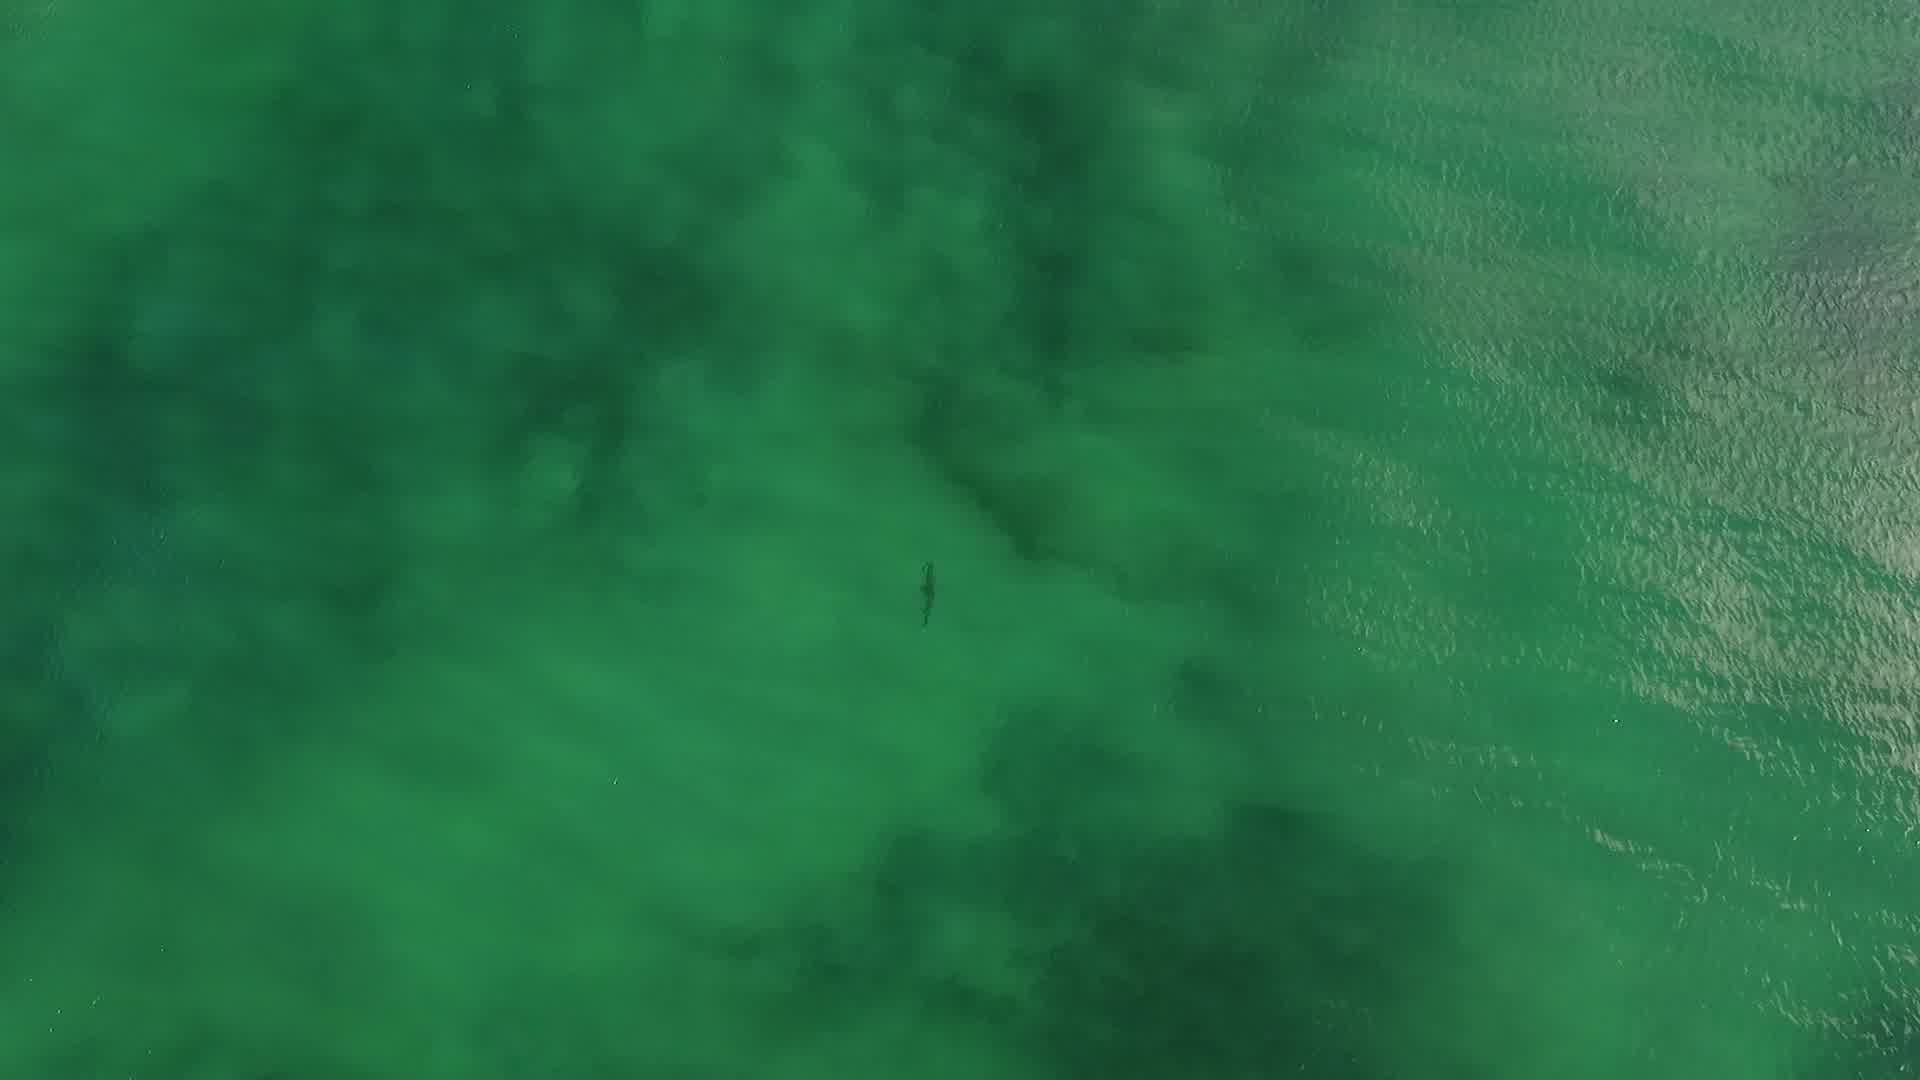shark: (916, 558, 940, 632)
